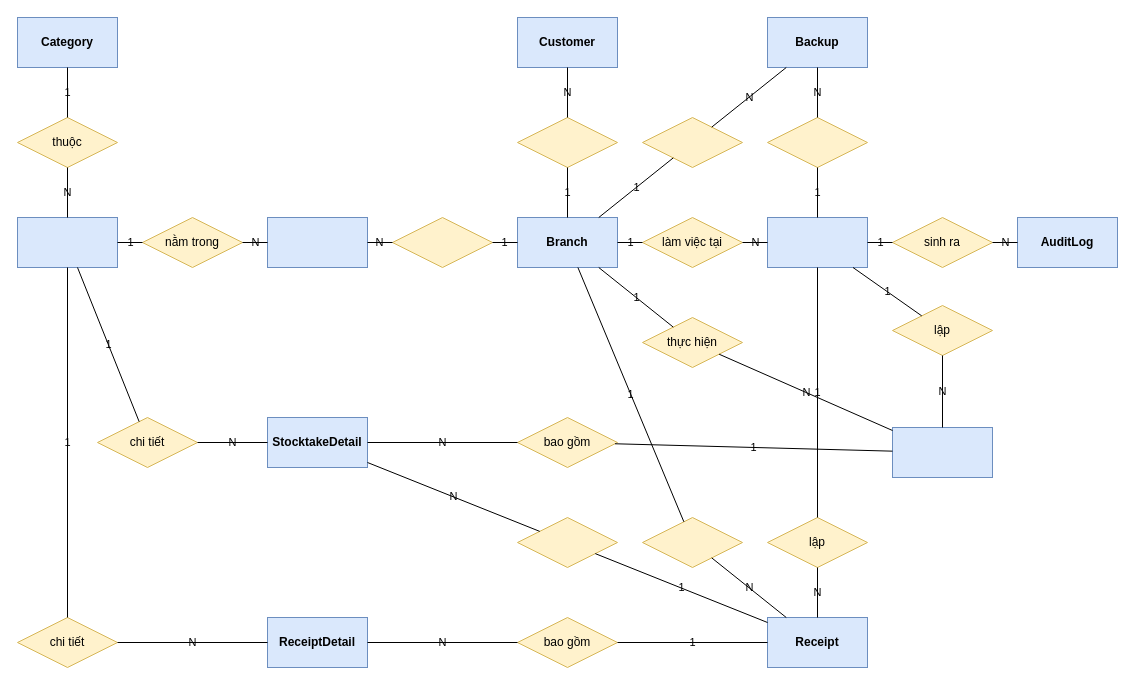
Image size: 1135x685. Some labels were removed from this diagram. The shapes that lost their labels are listed below. From the top down, each one's centre as x and y in pixels, then its label:
At [567,142]: "quản lý".
At [692,142]: "có".
At [817,142]: "tạo".
At [67,242]: "Product".
At [317,242]: "Inventory".
At [442,242]: "lưu trữ".
At [817,242]: "User".
At [942,452]: "Stocktake".
At [567,542]: "điều chỉnh".
At [692,542]: "nguồn/đích".
